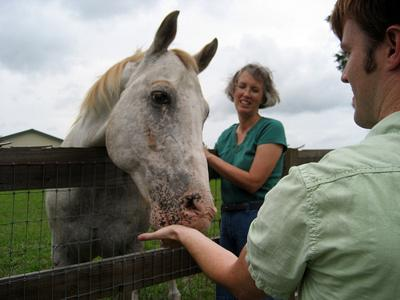person: (140, 2, 400, 300)
